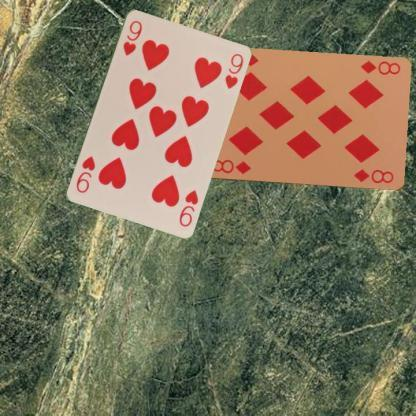8d: (208, 157, 252, 176), (358, 58, 402, 76)
9h: (176, 186, 200, 228), (120, 18, 143, 58)
